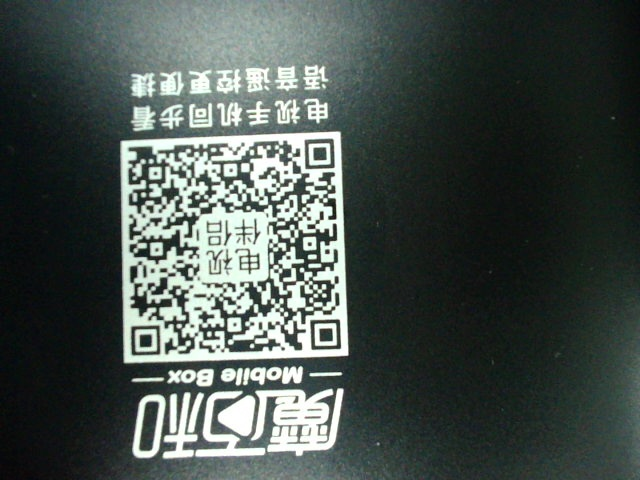AZ_MobileBox: (107, 66, 352, 457)
